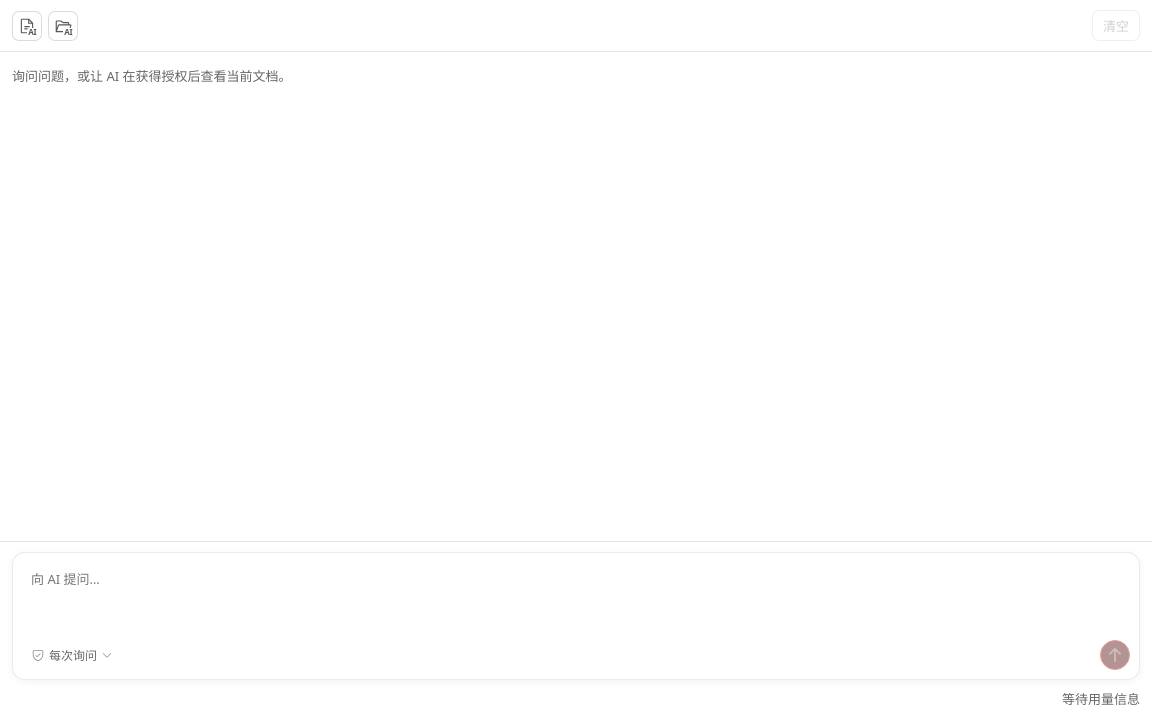
Test: AiConversationSidebar › reserves a trailing shared check icon for the selected write policy without changing labels or selection
Click the button with aria-label "写入策略：每次询问".
click(72, 655)  # box [22,640,122,670]
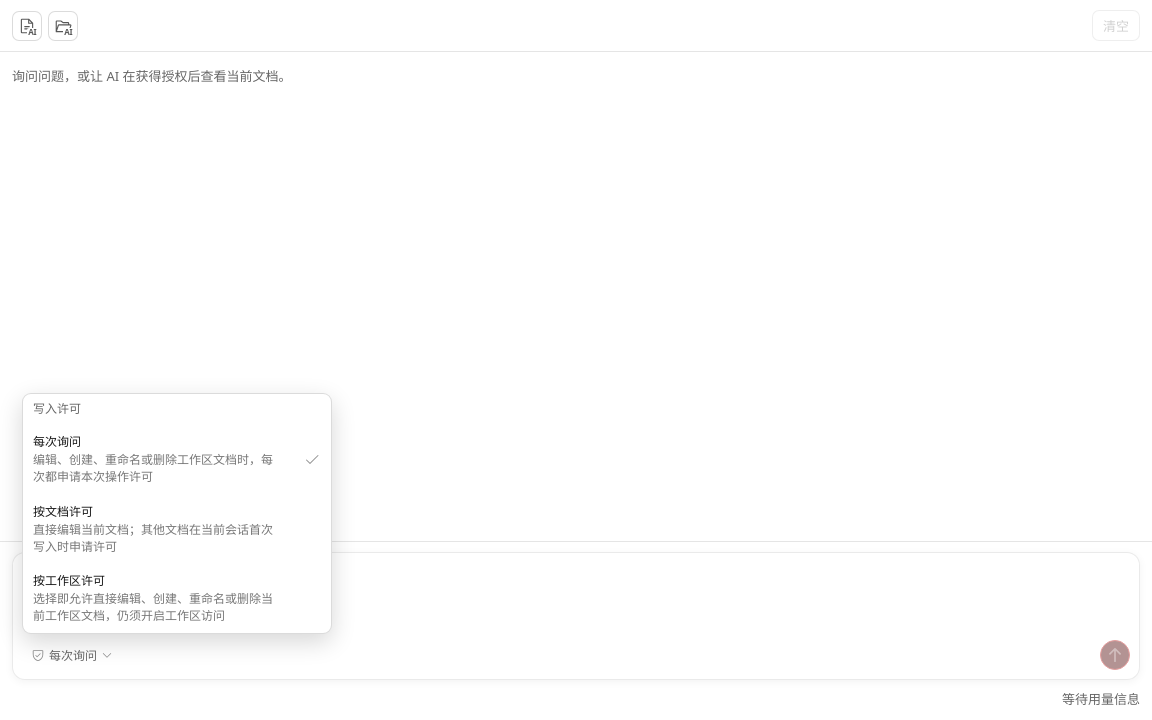
Click the menu item "按文档许可 直接编辑当前文档；其他文档在当前会话首次写入时申请许可".
click(177, 529)  # box [23,494,331,563]
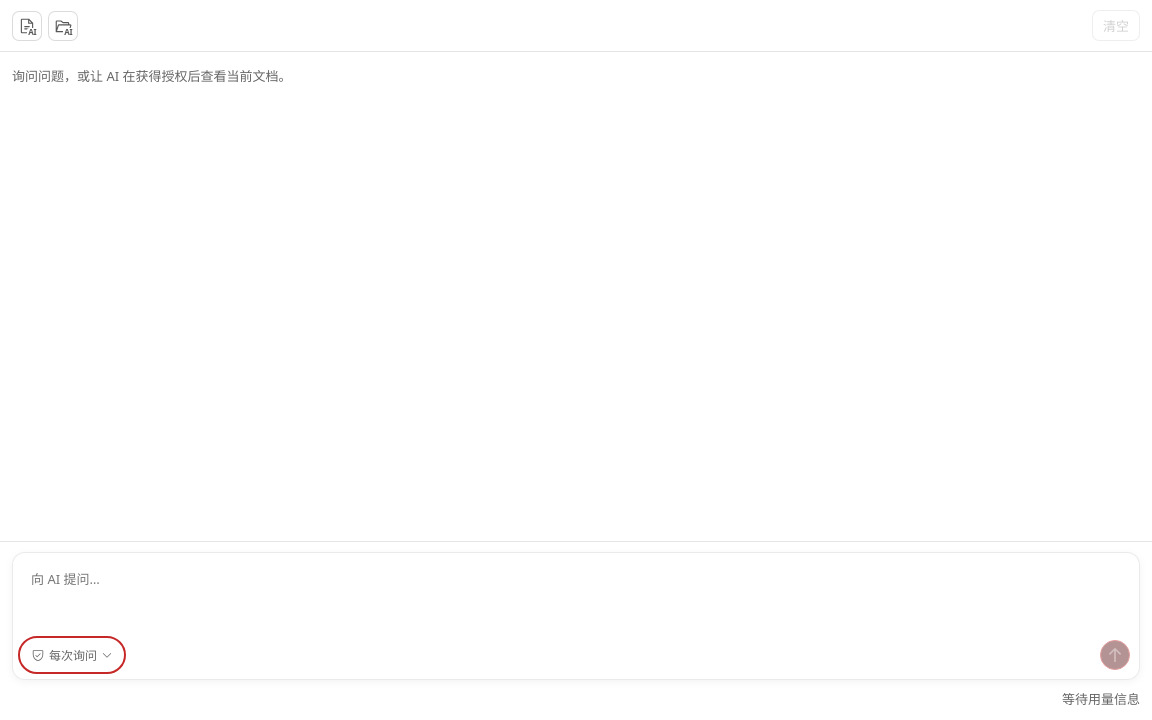
Expected: the menu is gone
